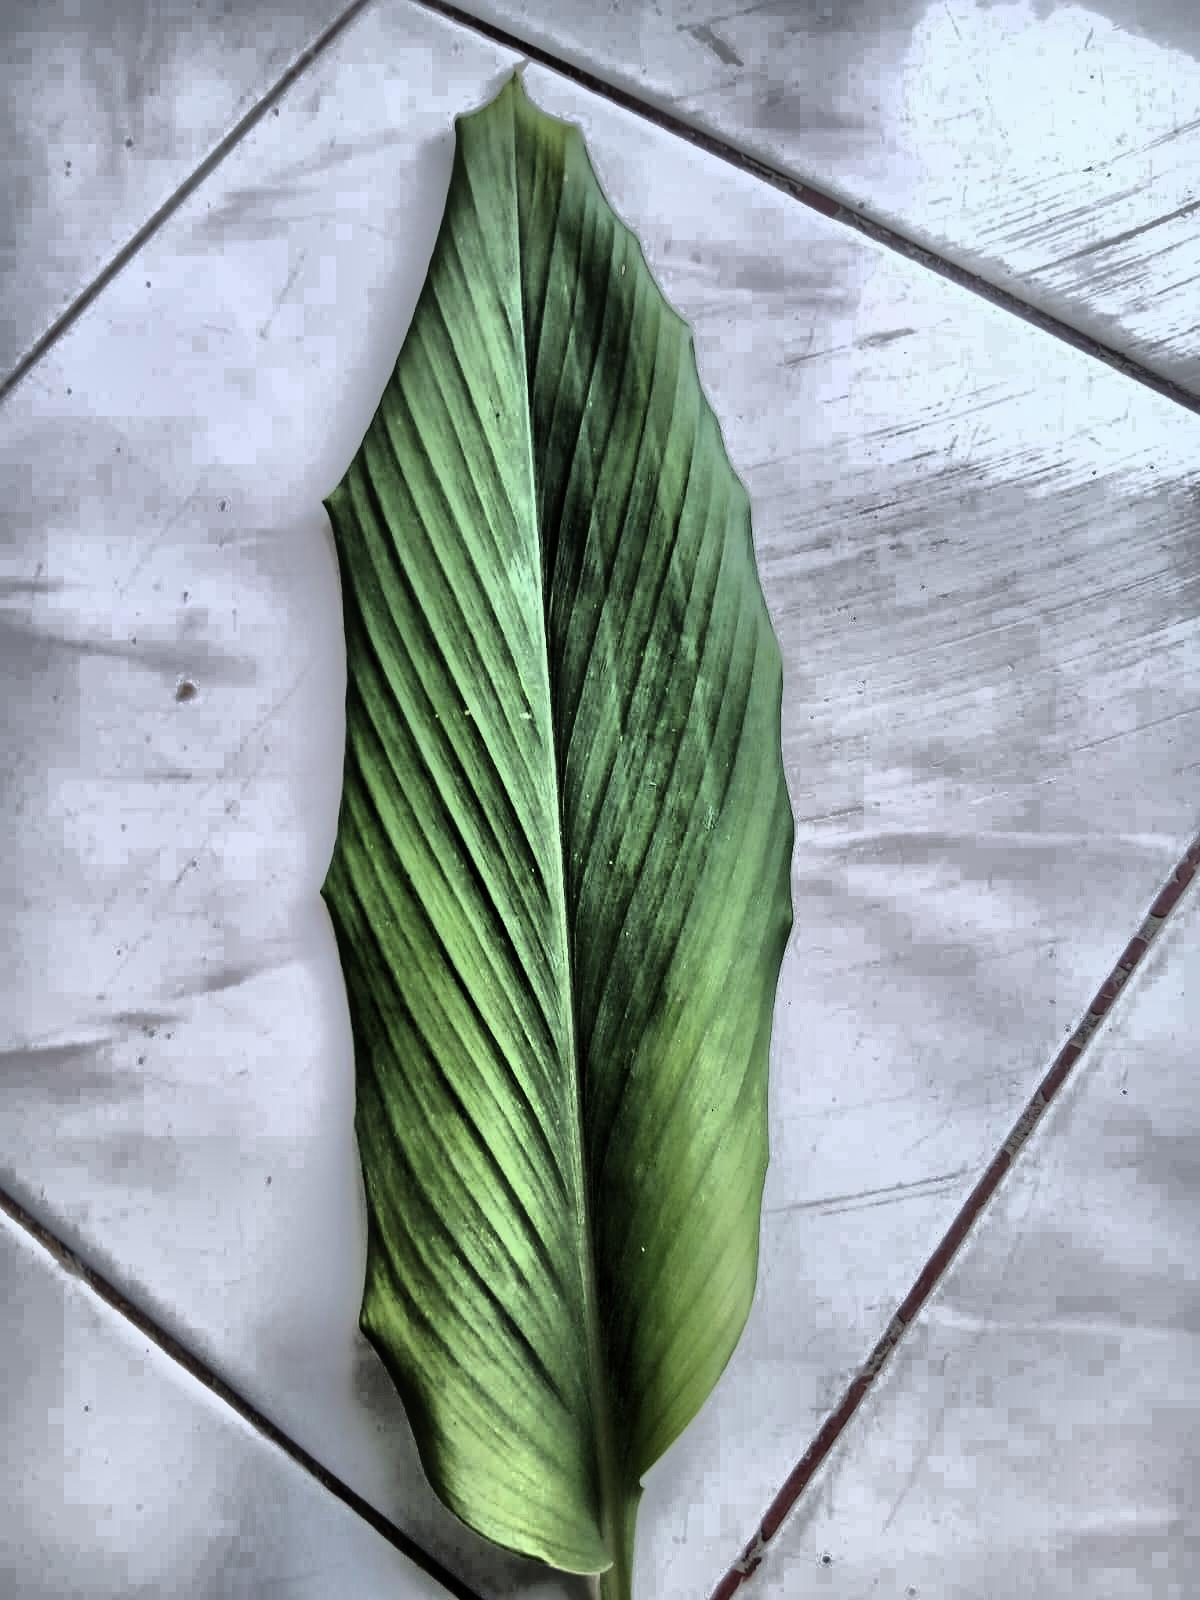daun kunyit: (323, 78, 793, 1599)
